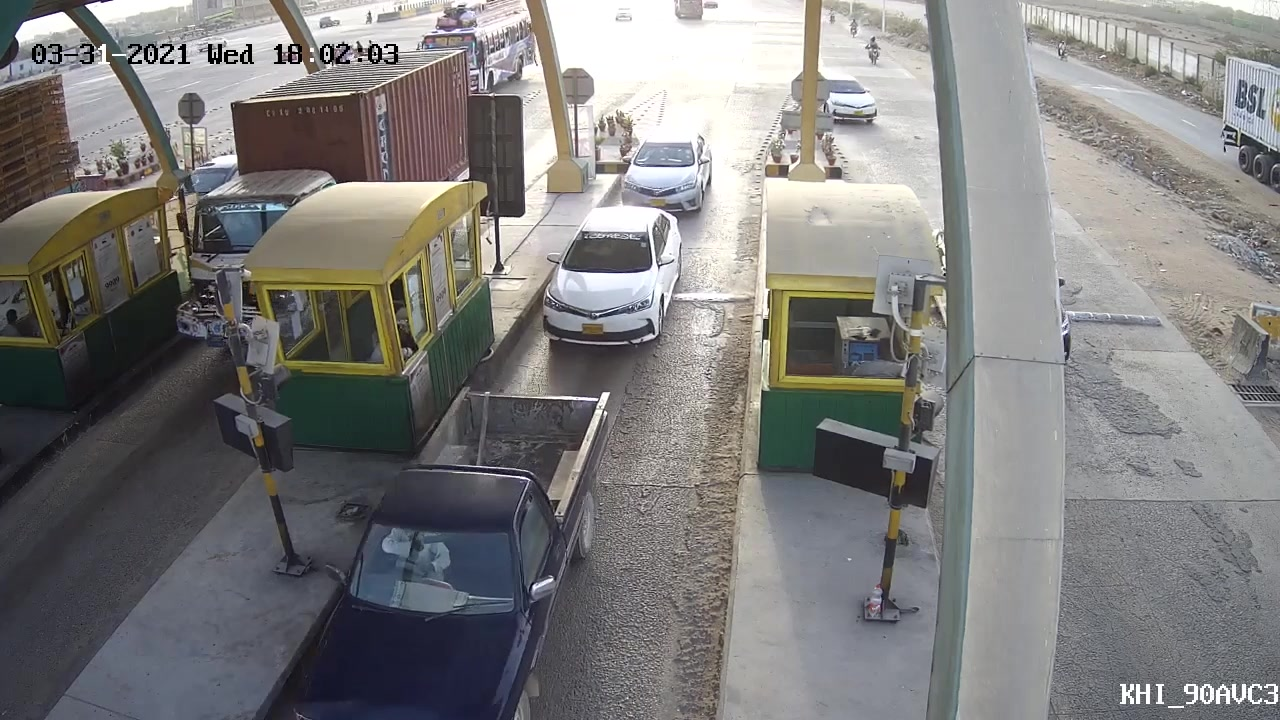F1: (518, 203, 692, 353)
